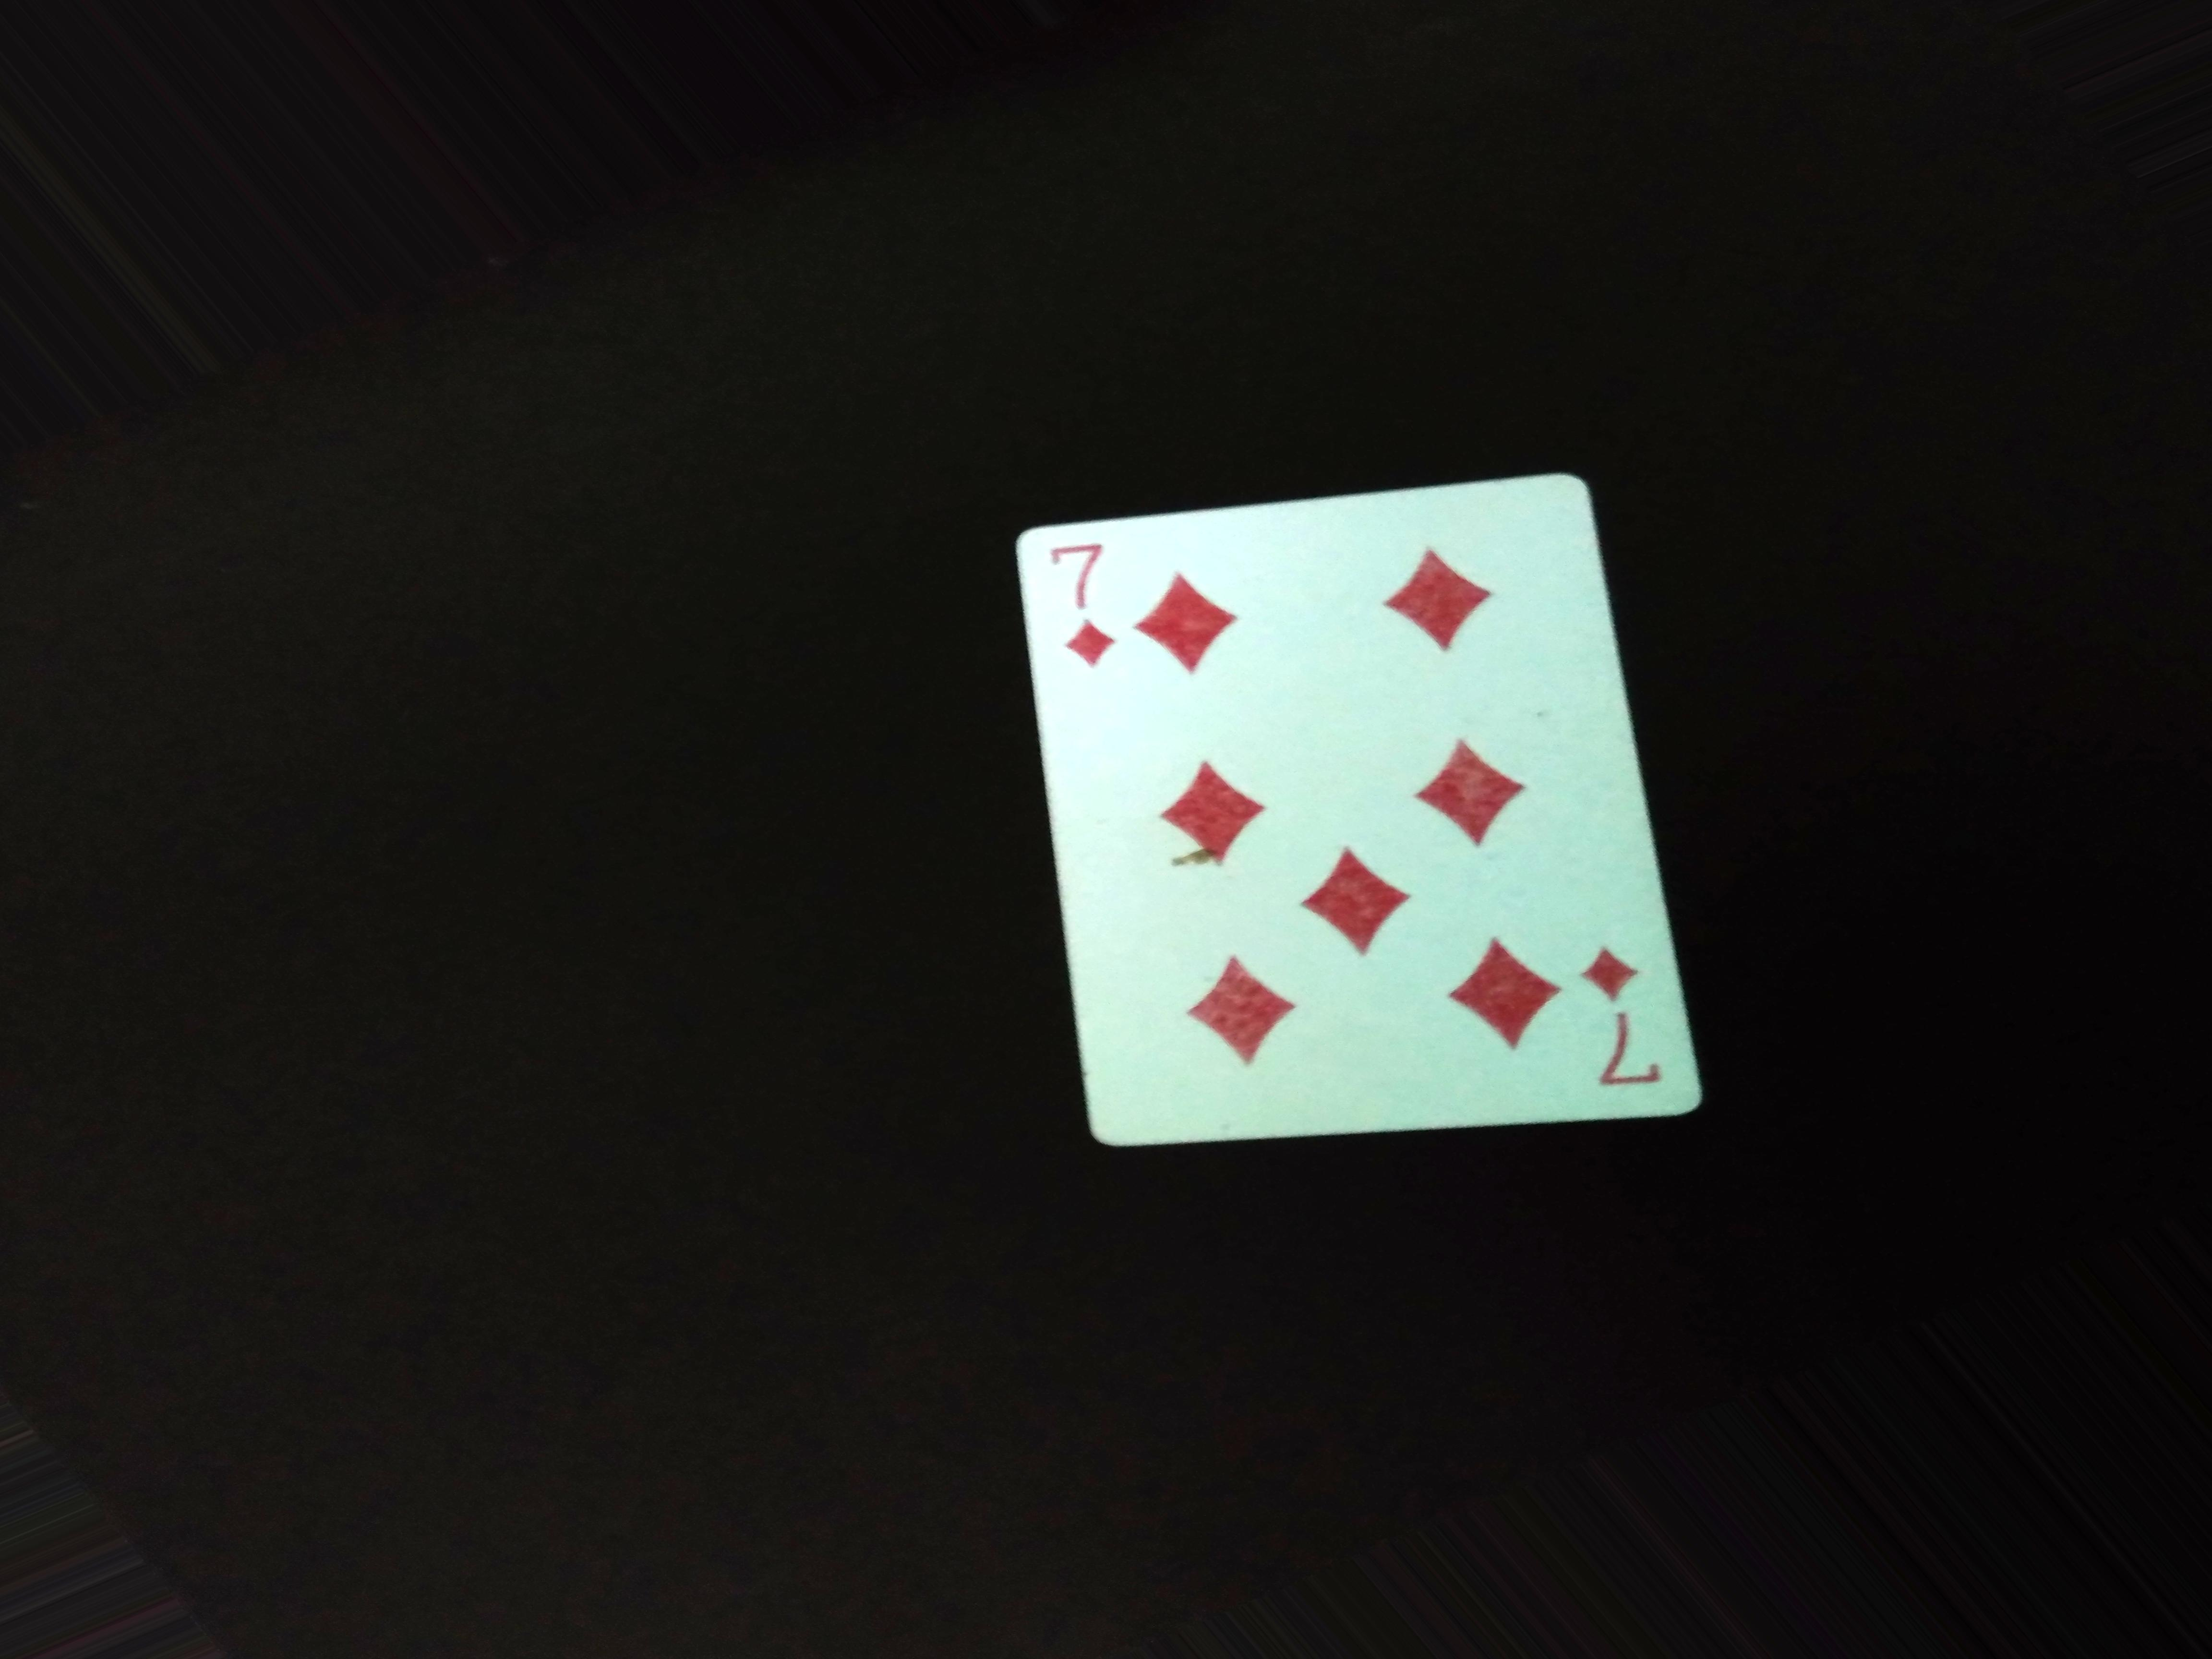7D: (1059, 519, 1132, 695)
